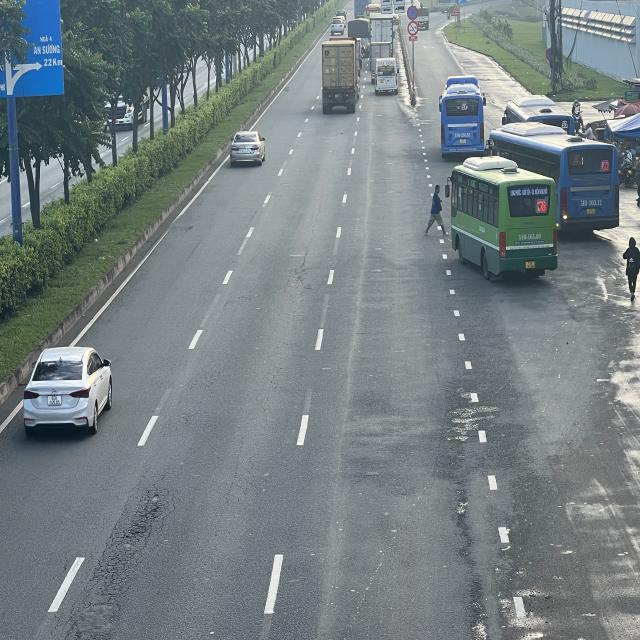car: (22, 344, 114, 433), (230, 129, 266, 164)
coach: (492, 120, 620, 234), (447, 159, 557, 274), (438, 78, 484, 160)
container: (324, 39, 363, 113)
van: (373, 58, 400, 94)
